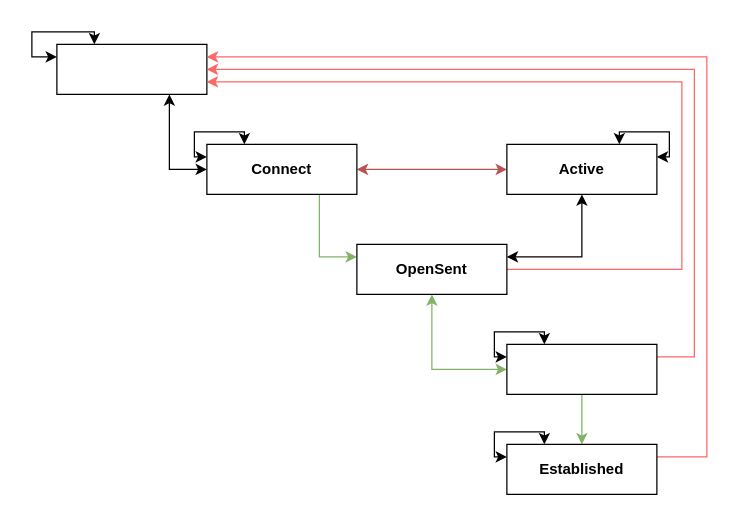
Image size: 739x516. Some labels were removed from this diagram. The box of each missing label's shape, as (x1, y1, x2, y2) in pixels:
IDLE: (56, 43, 207, 94)
OpenConfirm: (506, 343, 657, 394)
